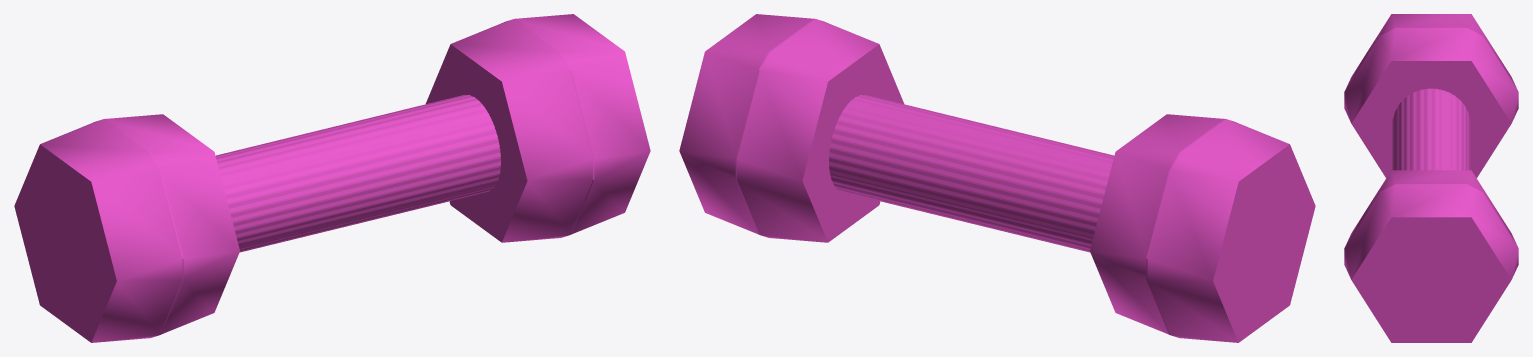
Rendered from Dumbbell.fbx.
3 renders of one model, left to right at view 1: azimuth 30°, elevation 25°; view 2: azimuth 150°, elevation 25°; view 3: azimuth 270°, elevation 25°, orthographic. The views are drawn at different scales.
Visible parts, largest first — view 1: Cylinder; view 2: Cylinder; view 3: Cylinder.
Boxes of the visible parts, x1,y1,x2,y2 form: Cylinder: (14,14,650,342); Cylinder: (679,14,1315,342); Cylinder: (1344,14,1518,342).
Size of the model in its own units: 520 by 173 by 188.
